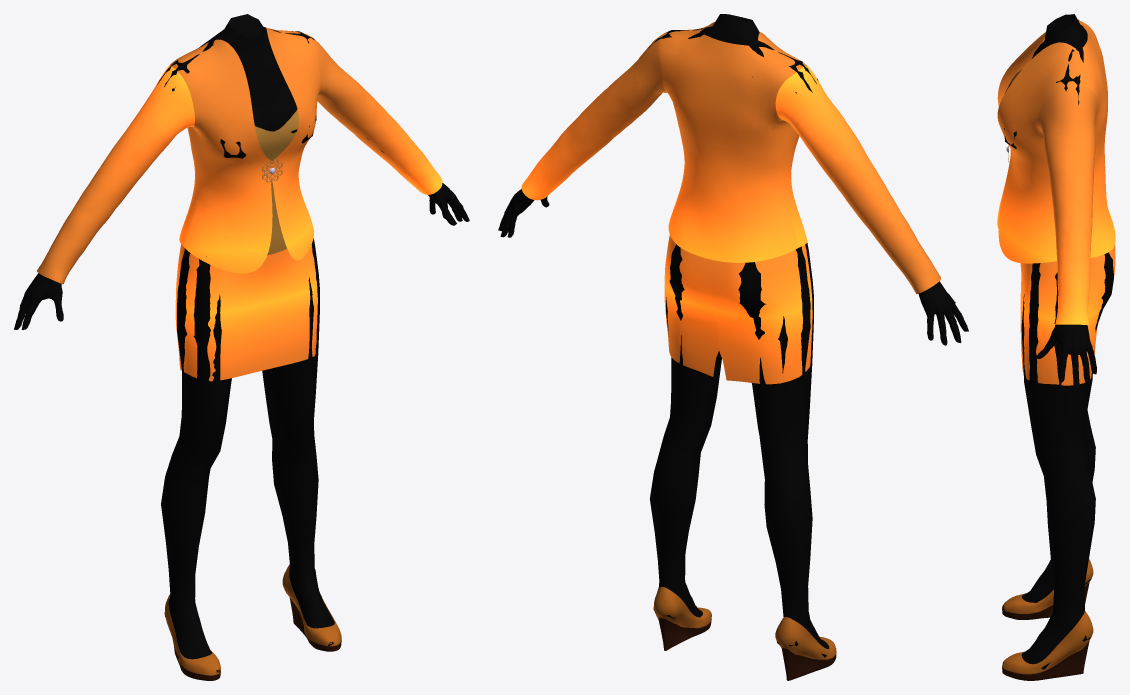
The model's file is officedress2.glb.
The picture shows the model from 3 angles, left to right: view 1: azimuth 30°, elevation 25°; view 2: azimuth 150°, elevation 25°; view 3: azimuth 270°, elevation 25°; orthographic projection. The views are drawn at different scales.
Visible parts, largest first — view 1: Suit; view 2: Suit; view 3: Suit.
Boxes of the visible parts, left/top/right/bottom form: Suit: left=14, top=14, right=469, bottom=680; Suit: left=498, top=14, right=968, bottom=680; Suit: left=997, top=14, right=1115, bottom=680.
Size of the model in its own units: 1.28 by 1.71 by 0.2923.
7 materials, 2 textured.
